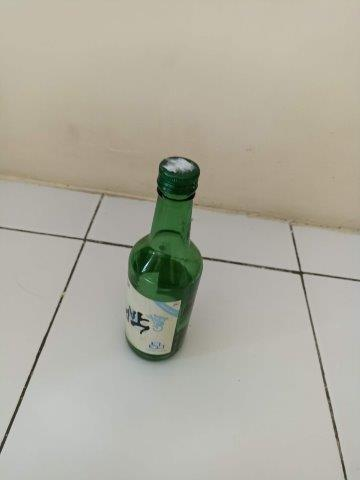botolkaca: (125, 157, 204, 363)
